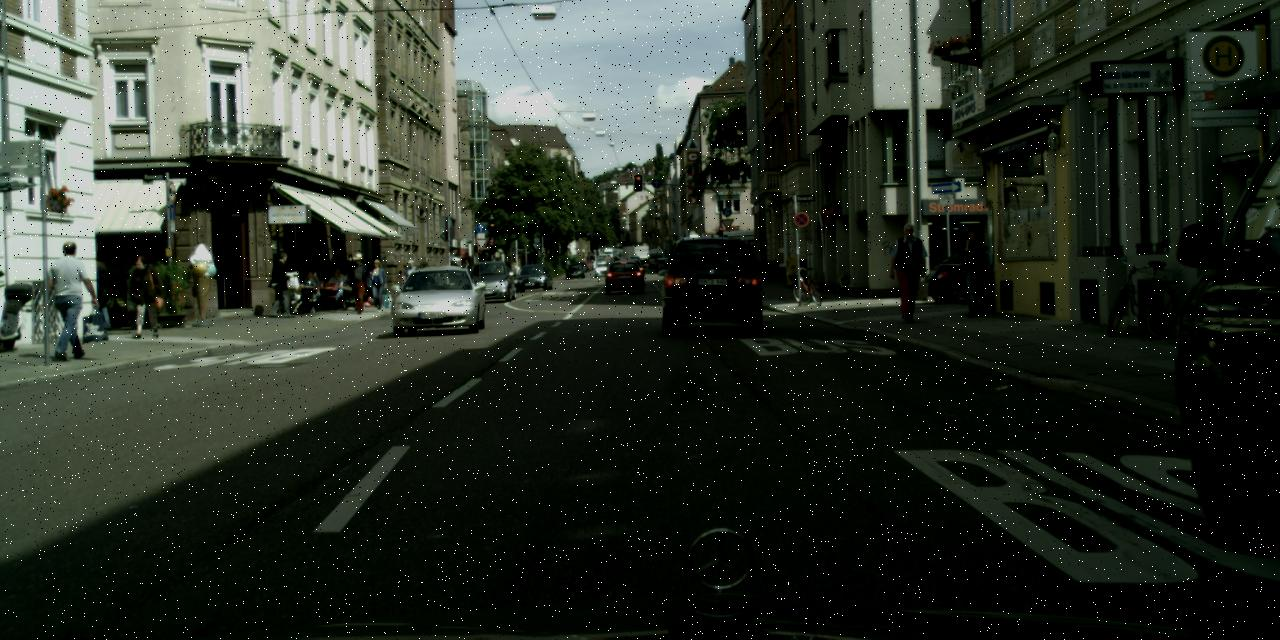ped: (46, 240, 94, 360), (888, 222, 928, 321), (955, 229, 991, 315), (127, 255, 161, 337), (78, 251, 110, 328), (270, 252, 296, 316), (346, 252, 370, 313), (367, 258, 388, 310), (402, 259, 420, 302), (460, 260, 470, 286), (451, 261, 457, 276)
